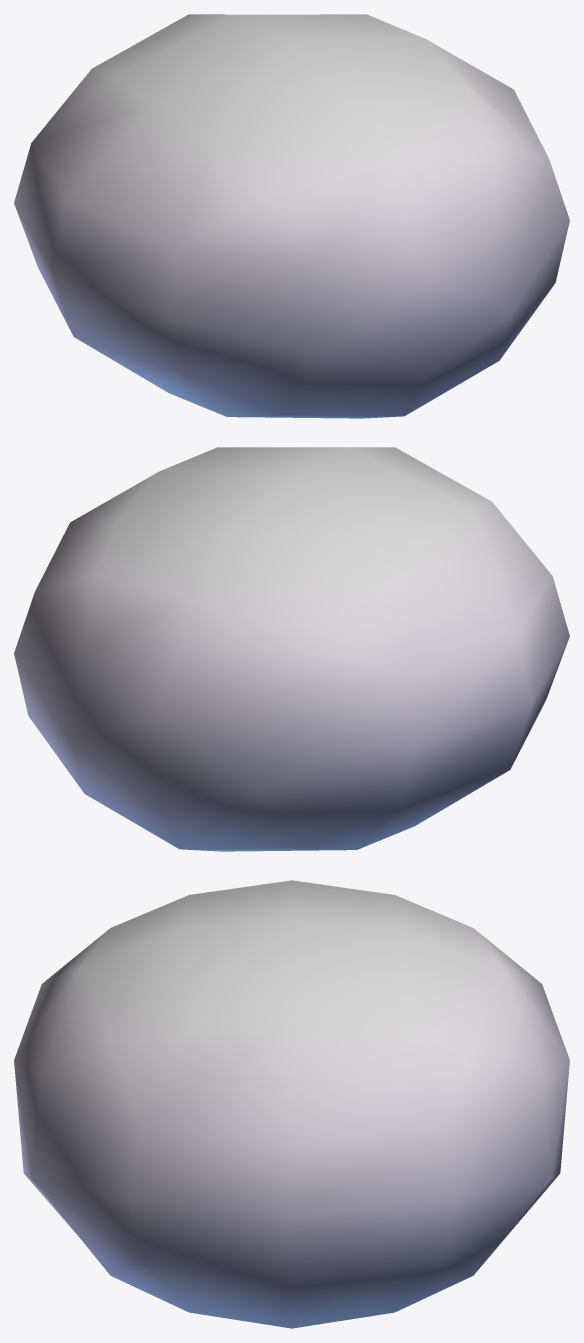
The model's file is HolidaySnowManBase.glb.
The picture shows the model from 3 angles, top to bottom: view 1: azimuth 30°, elevation 25°; view 2: azimuth 150°, elevation 25°; view 3: azimuth 270°, elevation 25°; orthographic projection. The views are drawn at different scales.
Parts seen in each view (by area): view 1: HolidaySnowManBase; view 2: HolidaySnowManBase; view 3: HolidaySnowManBase.
Part boxes in pixels (bbox=[...]): HolidaySnowManBase: bbox=[14, 14, 569, 418]; HolidaySnowManBase: bbox=[14, 447, 569, 851]; HolidaySnowManBase: bbox=[14, 880, 569, 1328].
Bounding box in the file's own units: 0.4752 × 0.3319 × 0.4593.
